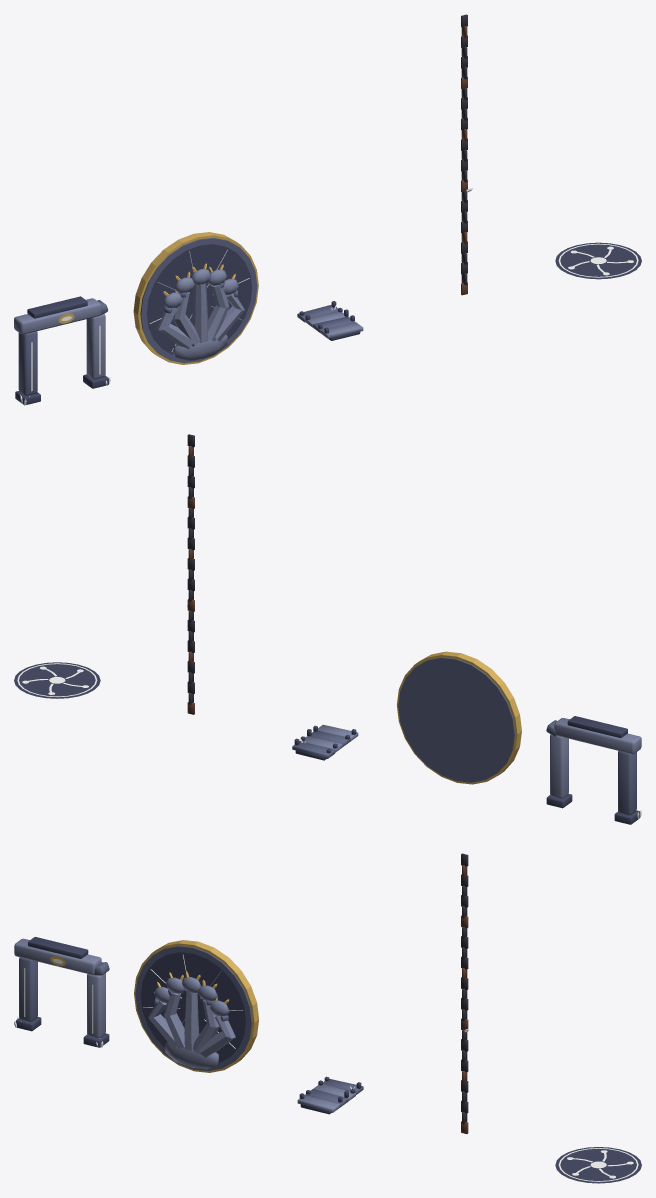
The model's file is DungeonWorld.fbx.
The picture shows the model from 3 angles, top to bottom: view 1: azimuth 30°, elevation 25°; view 2: azimuth 150°, elevation 25°; view 3: azimuth 330°, elevation 25°; orthographic projection.
Visible parts, largest first — view 1: DungeonHydraDoor__Frame, DungeonIslandGate__Frame, DungeonSigil__Frame, DungeonChain__Frame, DungeonBridge__Frame, DungeonSigil__Glow; view 2: DungeonHydraDoor__Frame, DungeonIslandGate__Frame, DungeonSigil__Frame, DungeonChain__Frame, DungeonBridge__Frame, DungeonSigil__Glow; view 3: DungeonHydraDoor__Frame, DungeonIslandGate__Frame, DungeonSigil__Frame, DungeonChain__Frame, DungeonBridge__Frame, DungeonSigil__Glow.
Boxes of the visible parts, x1,y1,x2,y2 form: DungeonHydraDoor__Frame: [133, 232, 258, 364]; DungeonIslandGate__Frame: [14, 296, 108, 404]; DungeonSigil__Frame: [555, 242, 641, 279]; DungeonChain__Frame: [461, 14, 467, 295]; DungeonBridge__Frame: [297, 301, 363, 340]; DungeonSigil__Glow: [558, 243, 638, 277]; DungeonHydraDoor__Frame: [397, 651, 521, 784]; DungeonIslandGate__Frame: [546, 716, 641, 824]; DungeonSigil__Frame: [14, 662, 100, 698]; DungeonChain__Frame: [187, 434, 194, 714]; DungeonBridge__Frame: [292, 724, 358, 760]; DungeonSigil__Glow: [17, 663, 97, 697]; DungeonHydraDoor__Frame: [134, 940, 258, 1072]; DungeonIslandGate__Frame: [14, 937, 109, 1047]; DungeonSigil__Frame: [555, 1147, 641, 1183]; DungeonChain__Frame: [461, 853, 468, 1133]; DungeonBridge__Frame: [297, 1076, 363, 1114]; DungeonSigil__Glow: [558, 1148, 638, 1181].
Bounding box in the file's own units: 138 × 60 × 16.8.
5 materials, 5 textured.
